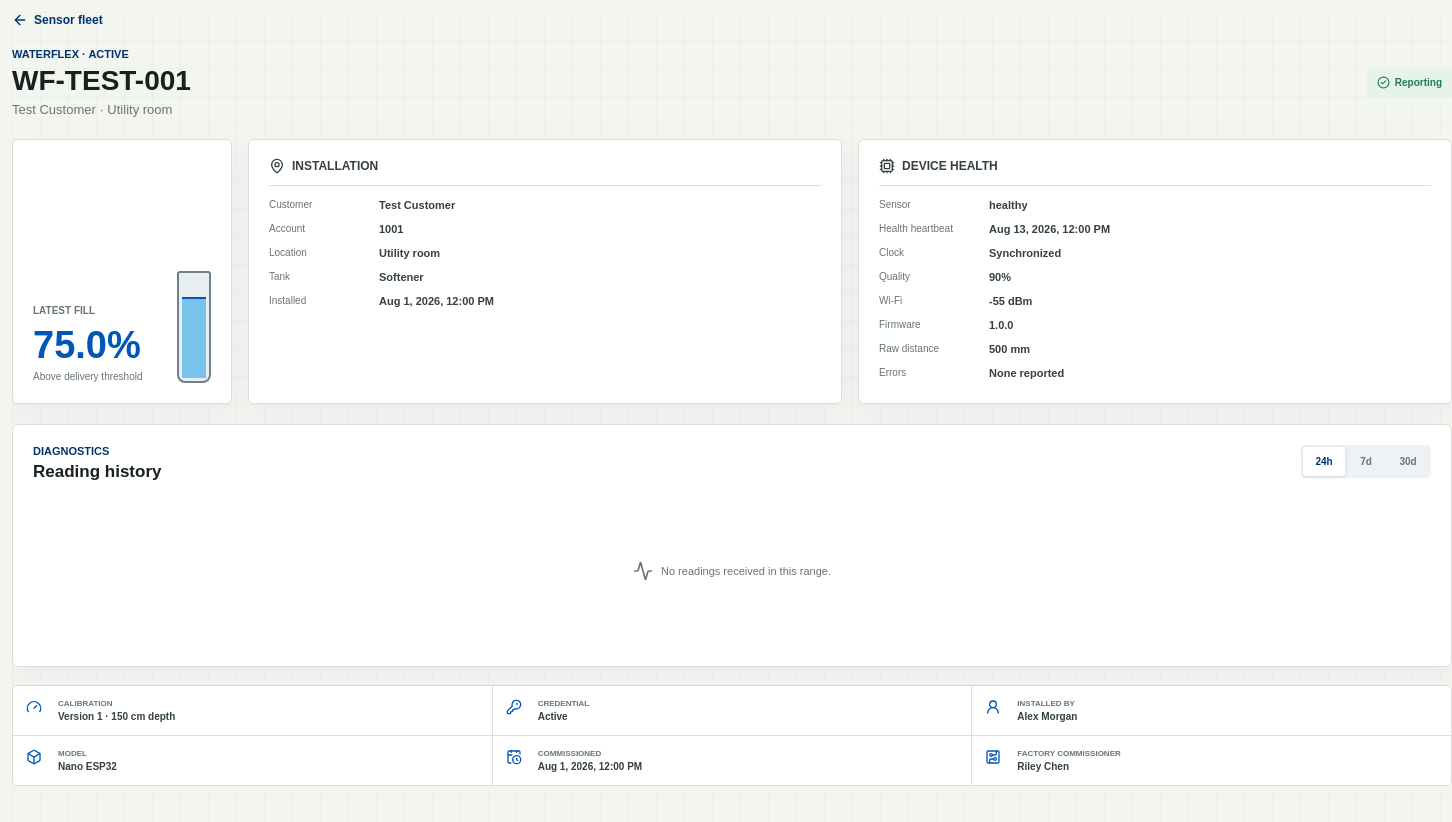
Scenario: DeviceDetailPage › loads hourly summaries for the 7-day range
Expected: the heading "WF-TEST-001" is shown, top-left (12, 65), bottom-right (191, 97)
Click the button "7d".
click(1366, 462)  # box top-left (1345, 447), bottom-right (1387, 476)
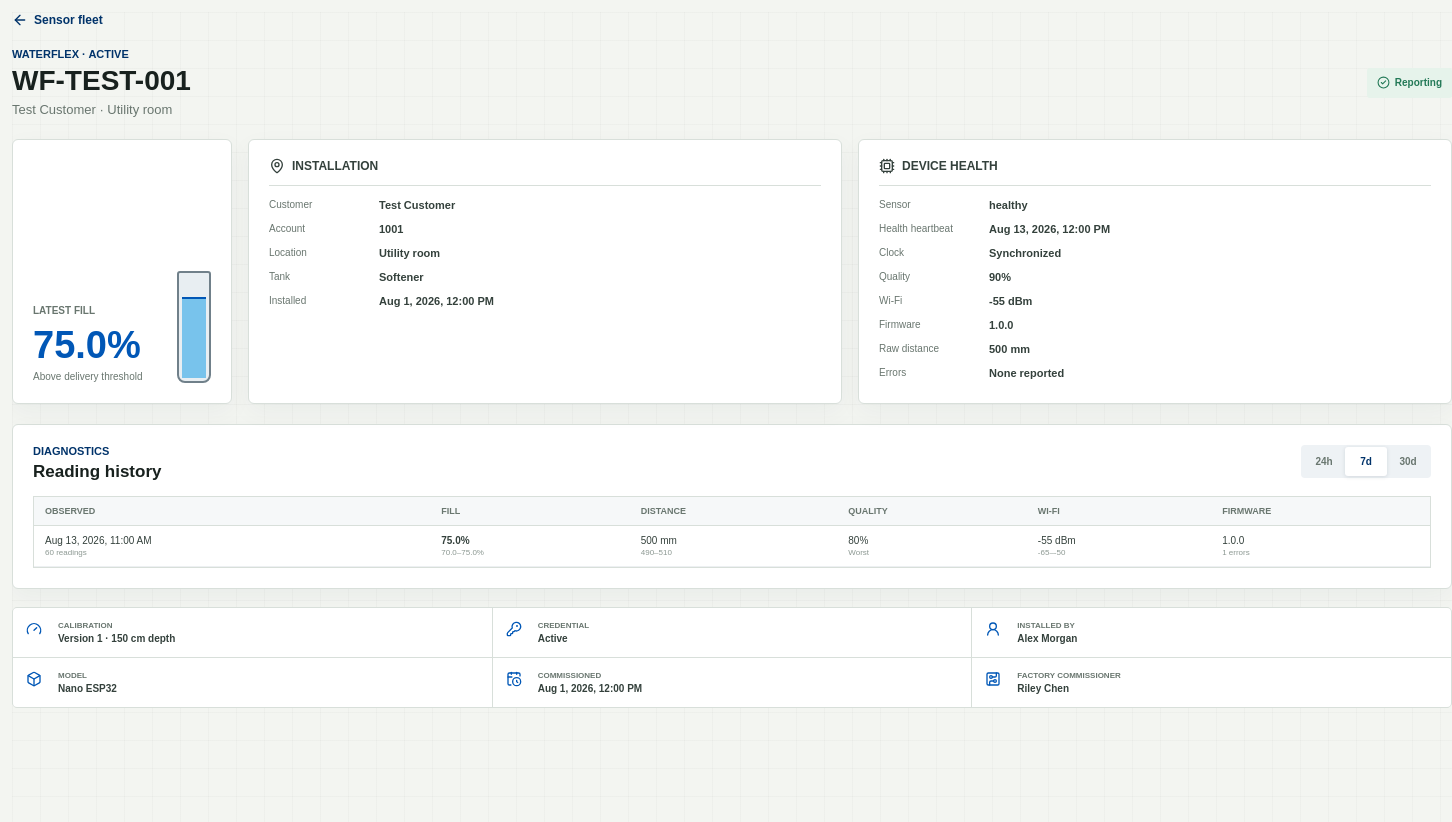
Expected: the text "60 readings" is shown, top-left (45, 548), bottom-right (87, 557)
